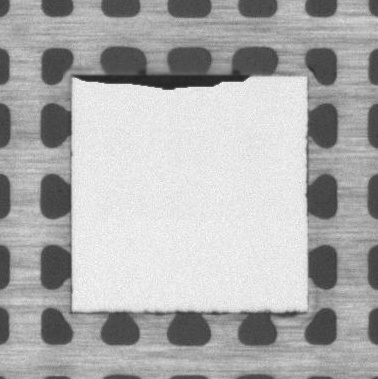DIE_BROKEN: (71, 70, 252, 91)
